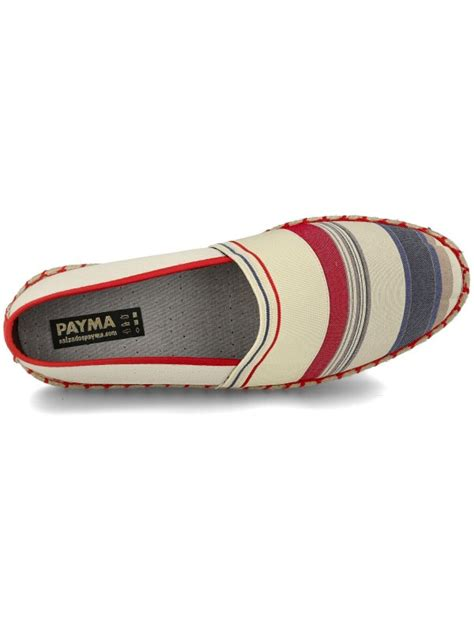nylon: (5, 221, 463, 388)
